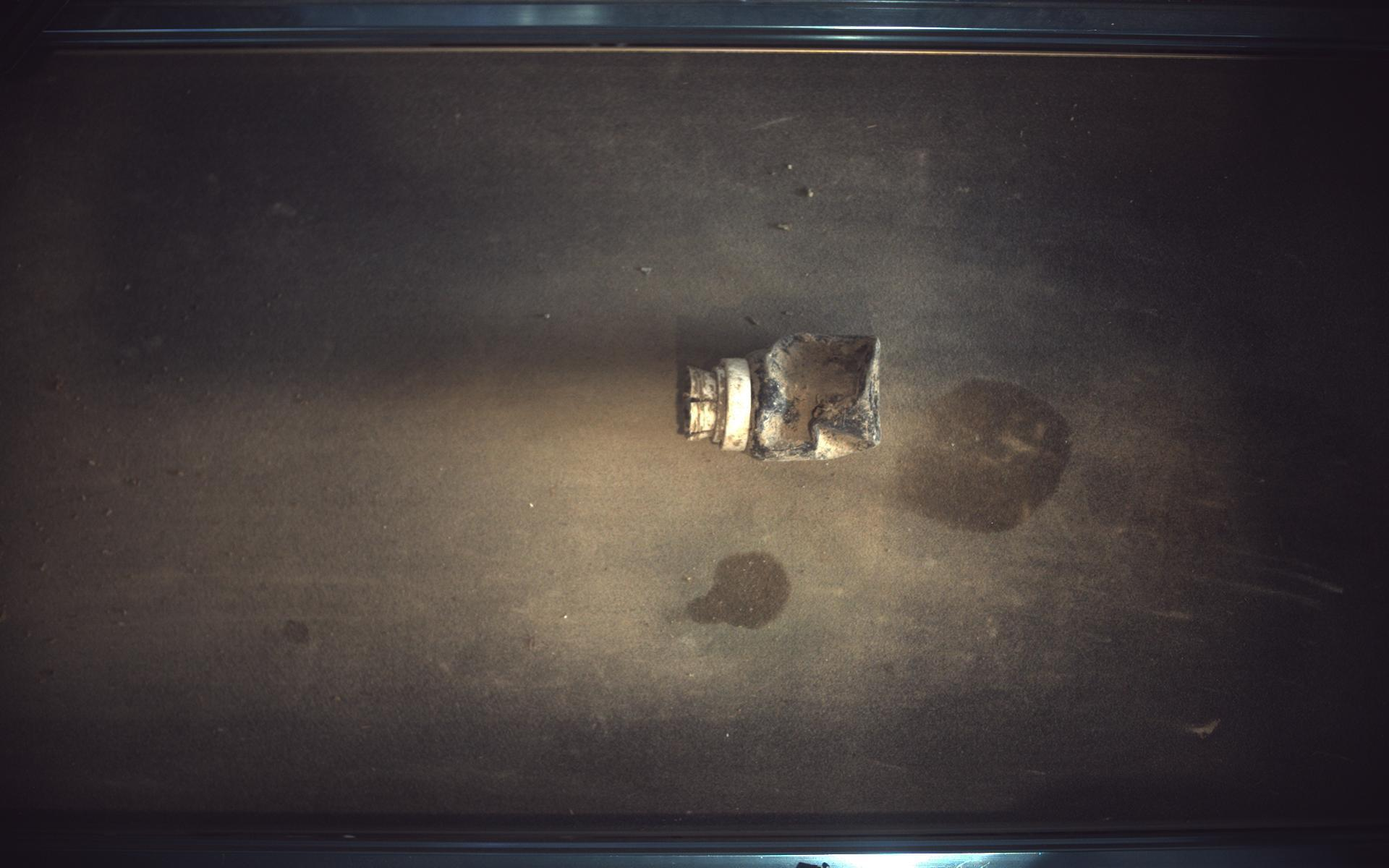general_w: (679, 333, 882, 461)
